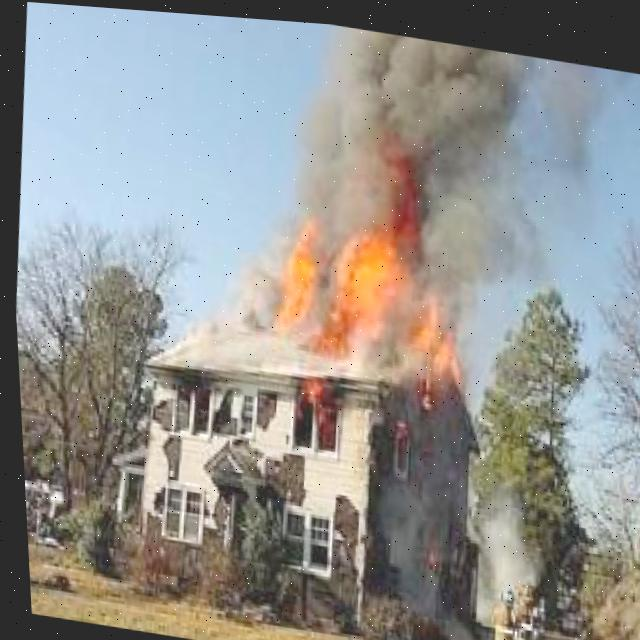fire: (269, 123, 455, 403), (288, 372, 339, 448)
smoke: (238, 28, 532, 368), (470, 489, 530, 616)
